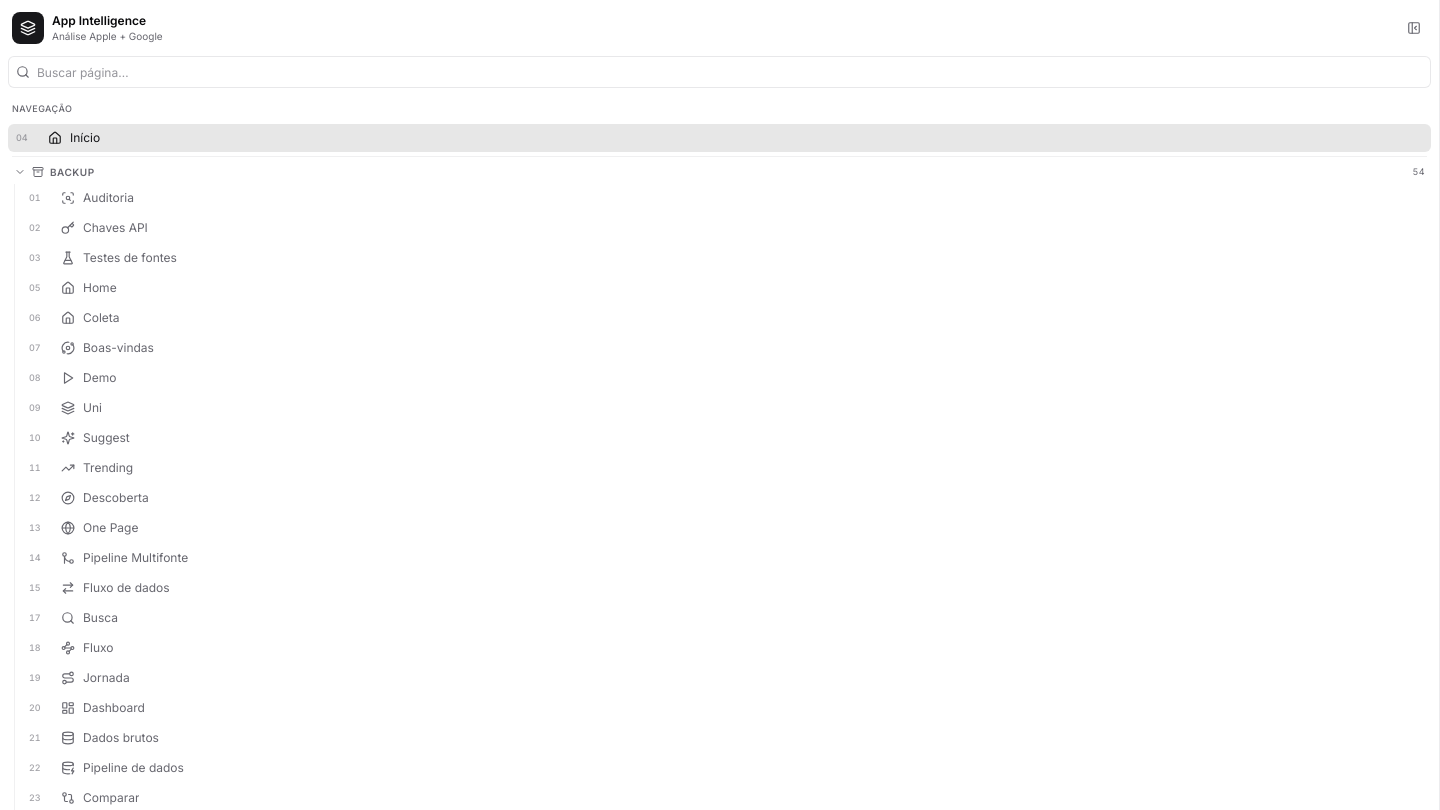
Test case: LeftSidebar — busca do menu › filtra páginas por label e mostra contagem de resultados
This screenshot has width=1440, height=810.
Type "dashboard" into the search field named "Buscar página no menu" at (720, 72), box [8, 56, 1431, 88]
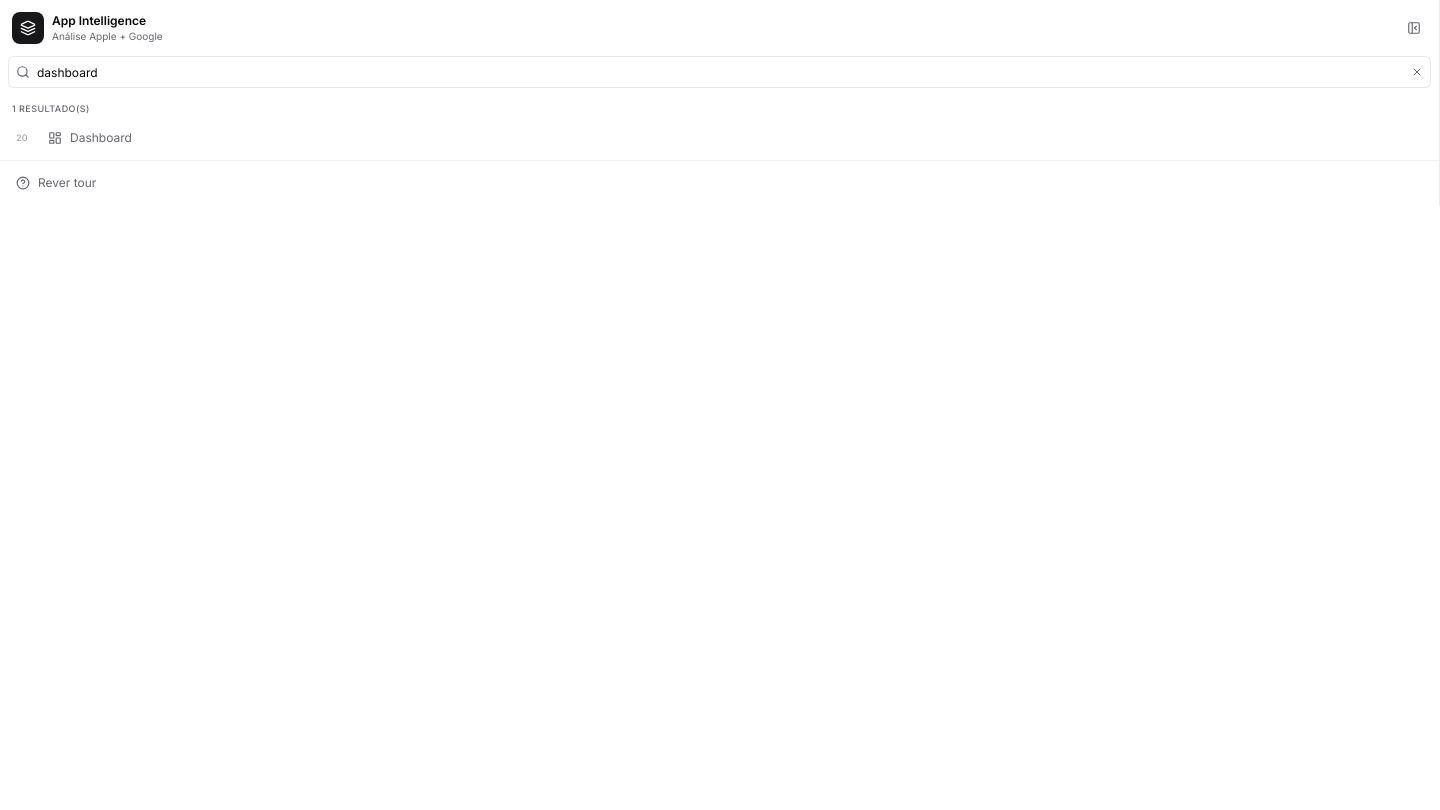
Expected: the text "Dashboard" is shown, [70, 130, 132, 146]
Expected: the message shows "resultado", [12, 103, 90, 114]
